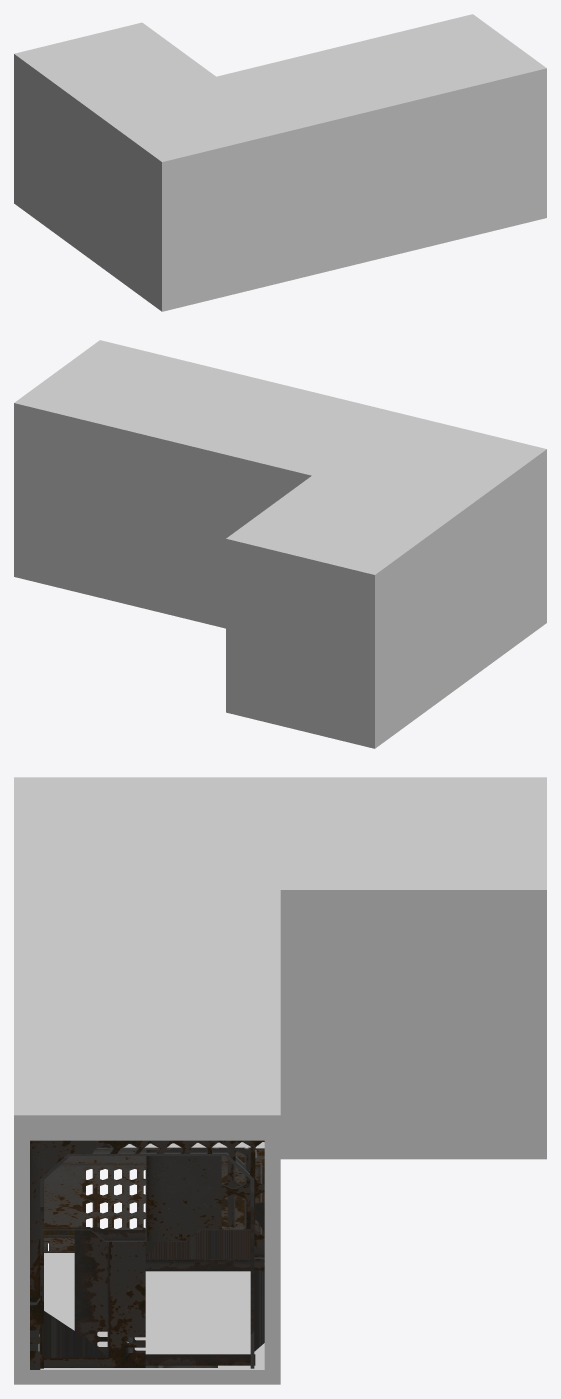
Rendered from Lroom.fbx.
3 views of the same model, one above another, from view 1: azimuth 30°, elevation 25°; view 2: azimuth 150°, elevation 25°; view 3: azimuth 270°, elevation 25° (orthographic). The views are drawn at different scales.
Visible parts, largest first — view 1: Plane.039, Plane.037, Plane.038, Plane.045, Plane.040, Plane.047, Plane.046, Plane.044, Plane.041, Plane.035, Plane.031, Plane.033 (+2 smaller); view 2: Plane.043, Plane.032, Plane.044, Plane.041, Plane.046, Plane.047, Plane.045, Plane.034, Plane.040, Plane.036, Plane.033, Plane.035 (+2 smaller); view 3: Plane.042, Plane.046, Plane.044, 12.001, Plane.047, Plane.045, Plane.033, Plane.028, Plane.030, Plane.032, Plane.036, Plane.043 (+1 smaller).
Boxes of the visible parts, x1=… form: Plane.039: x1=157, y1=139, x2=290, y2=303; Plane.037: x1=290, y1=107, x2=418, y2=272; Plane.038: x1=418, y1=77, x2=545, y2=240; Plane.045: x1=88, y1=76, x2=290, y2=170; Plane.040: x1=88, y1=115, x2=169, y2=303; Plane.047: x1=217, y1=45, x2=418, y2=138; Plane.046: x1=345, y1=14, x2=546, y2=106; Plane.044: x1=14, y1=22, x2=215, y2=115; Plane.041: x1=14, y1=61, x2=87, y2=249; Plane.035: x1=88, y1=250, x2=290, y2=311; Plane.031: x1=290, y1=241, x2=418, y2=280; Plane.033: x1=418, y1=210, x2=546, y2=248; Plane.043: x1=226, y1=547, x2=374, y2=739; Plane.032: x1=14, y1=411, x2=162, y2=603; Plane.044: x1=226, y1=476, x2=460, y2=584; Plane.041: x1=366, y1=521, x2=460, y2=739; Plane.046: x1=14, y1=340, x2=248, y2=448; Plane.047: x1=163, y1=376, x2=397, y2=482; Plane.045: x1=312, y1=413, x2=546, y2=520; Plane.034: x1=163, y1=448, x2=301, y2=618; Plane.040: x1=461, y1=462, x2=541, y2=676; Plane.036: x1=226, y1=677, x2=460, y2=748; Plane.033: x1=14, y1=567, x2=162, y2=612; Plane.035: x1=461, y1=614, x2=546, y2=685; Plane.042: x1=280, y1=903, x2=530, y2=1144; Plane.046: x1=14, y1=1002, x2=280, y2=1129; Plane.044: x1=280, y1=777, x2=546, y2=904; 12.001: x1=30, y1=1140, x2=264, y2=1369; Plane.047: x1=14, y1=890, x2=280, y2=1002; Plane.045: x1=14, y1=777, x2=280, y2=889; Plane.033: x1=14, y1=1257, x2=280, y2=1384; Plane.028: x1=44, y1=1148, x2=264, y2=1252; Plane.030: x1=14, y1=1128, x2=280, y2=1337; Plane.032: x1=264, y1=1129, x2=280, y2=1369; Plane.036: x1=280, y1=1145, x2=546, y2=1159; Plane.043: x1=531, y1=904, x2=546, y2=1144.
Size of the model in its own units: 600 by 223 by 400.
